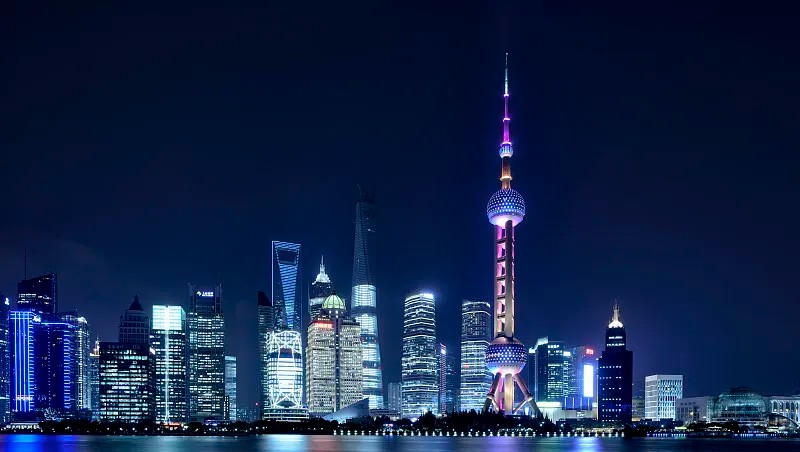Oriental: (482, 53, 541, 413)
